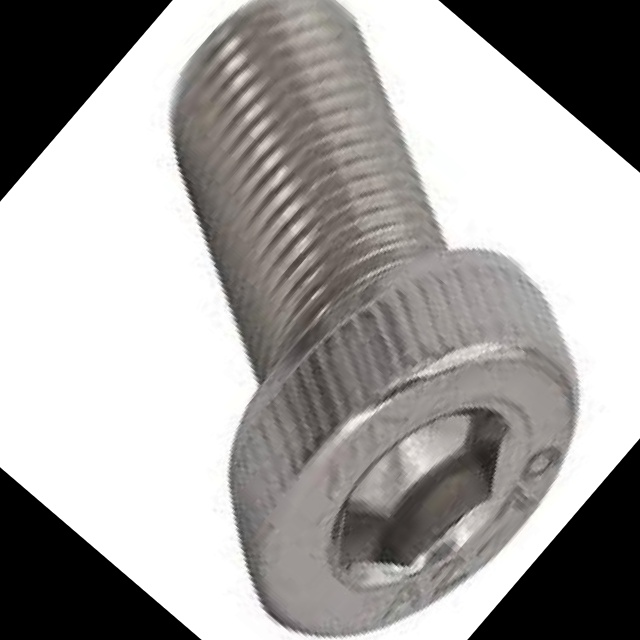allen: (219, 279, 623, 640)
